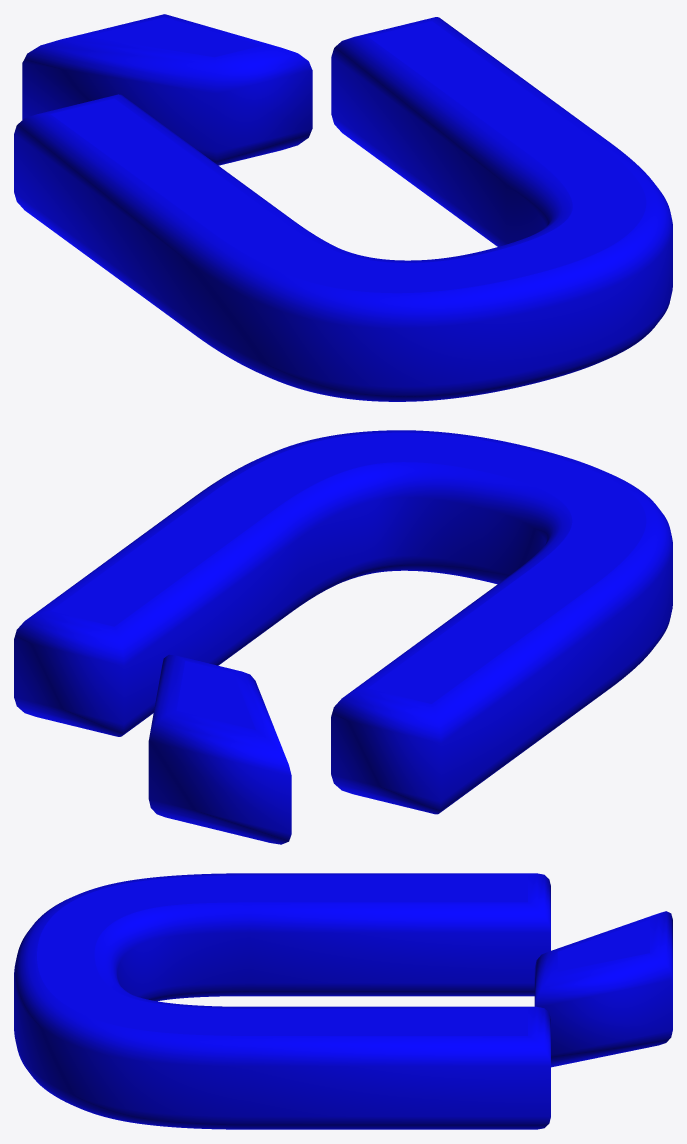
3 views of the same model, one above another, from view 1: azimuth 30°, elevation 25°; view 2: azimuth 150°, elevation 25°; view 3: azimuth 270°, elevation 25° (orthographic). The views are drawn at different scales.
Parts seen in each view (by area): view 1: texto; view 2: texto; view 3: texto.
Boxes of the visible parts, x1,y1,x2,y2 form: texto: (14,14,672,401); texto: (14,430,672,844); texto: (14,873,672,1129).
Size of the model in its own units: 0.9268 by 0.22 by 1.43.
